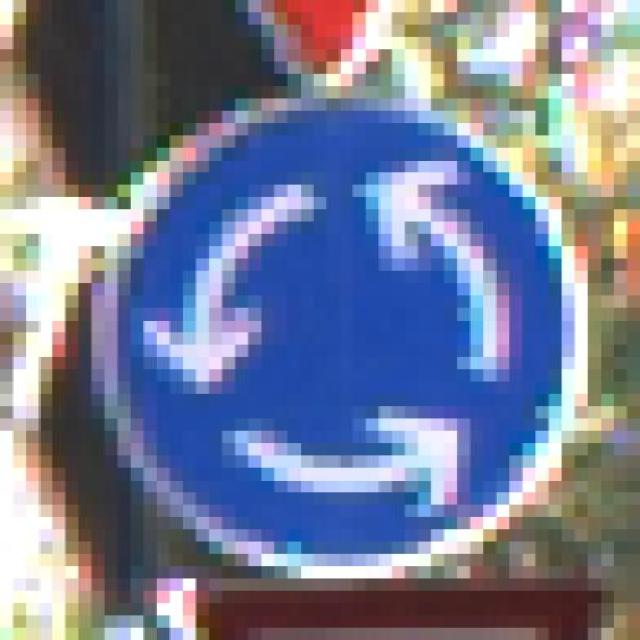Round-About: (65, 49, 627, 591)
